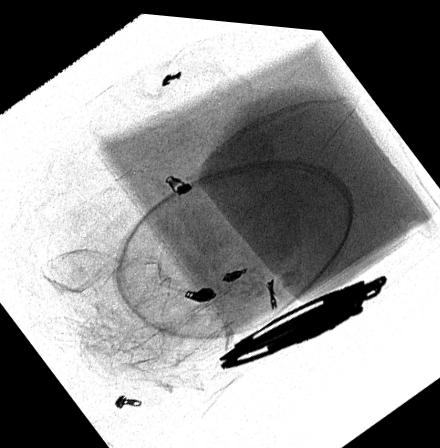HandCuffs: (218, 266, 388, 365)
